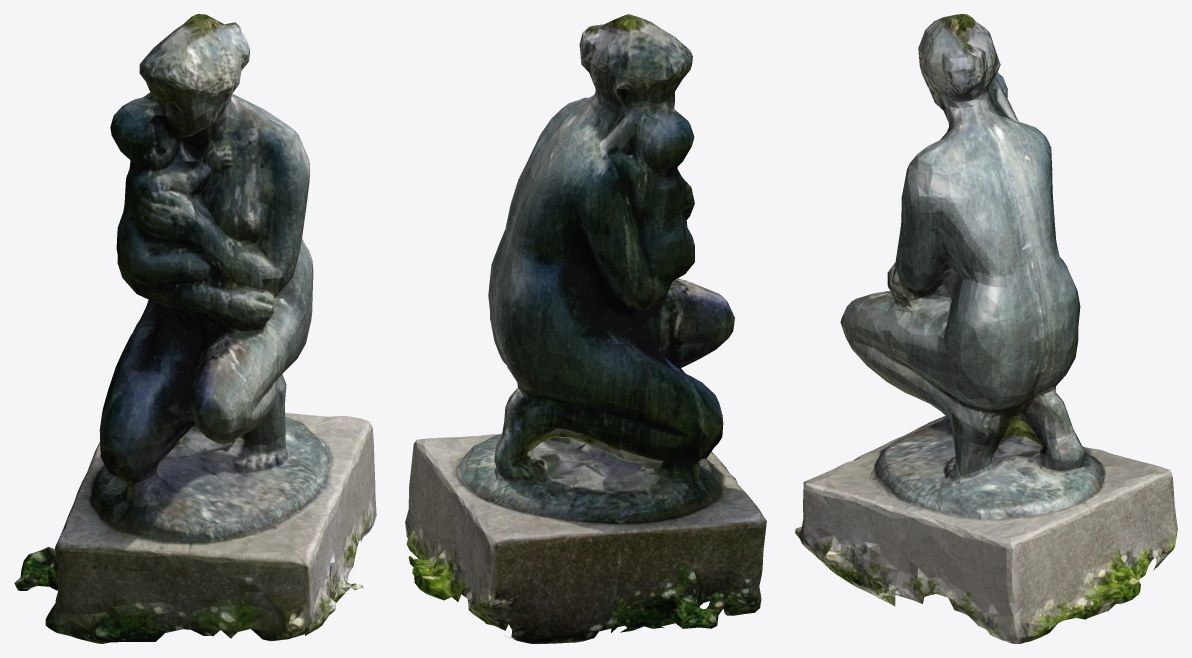
Rendered from mother_child_statue.obj.
The picture shows the model from 3 angles, left to right: view 1: azimuth 30°, elevation 25°; view 2: azimuth 150°, elevation 25°; view 3: azimuth 270°, elevation 25°; orthographic projection. The views are drawn at different scales.
Size of the model in its own units: 1.2 by 2 by 1.23.
